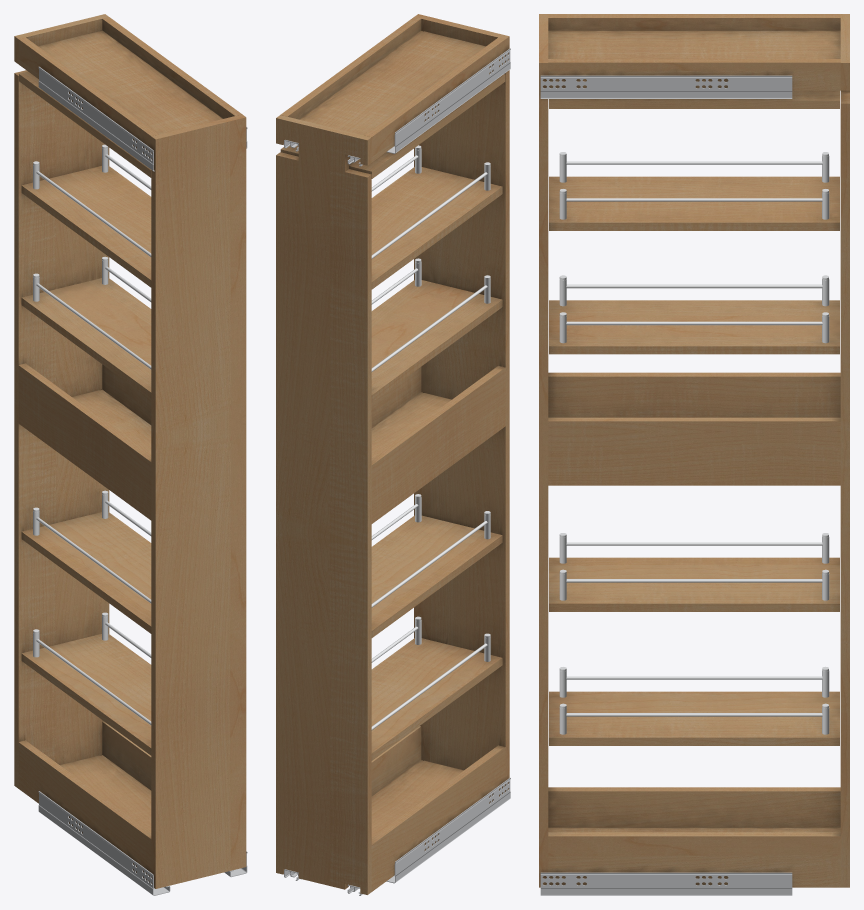
File: inserts-tall-pantry-pullout.glb
3 views of the same model, side by side, from view 1: azimuth 30°, elevation 25°; view 2: azimuth 150°, elevation 25°; view 3: azimuth 270°, elevation 25° (orthographic). The views are drawn at different scales.
Visible parts, largest first — view 1: insert; view 2: insert; view 3: insert.
Boxes of the visible parts, x1=… form: insert: x1=14, y1=14, x2=247, y2=895; insert: x1=276, y1=14, x2=510, y2=895; insert: x1=539, y1=14, x2=849, y2=895.
Size of the model in its own units: 0.2154 by 1.64 by 0.556.
6 materials, 1 textured.
